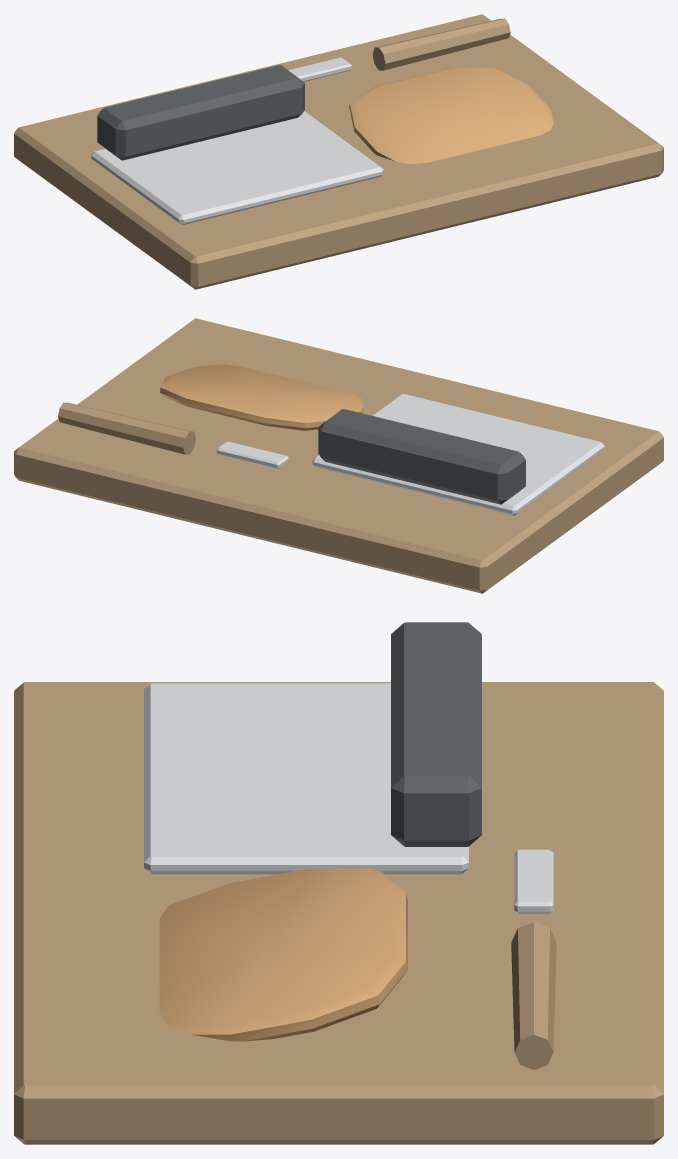
File: bakery-and-cafe-dough-scraper-set-985913fa__22201.glb
3 renders of one model, top to bottom at view 1: azimuth 30°, elevation 25°; view 2: azimuth 150°, elevation 25°; view 3: azimuth 270°, elevation 25°, orthographic. The views are drawn at different scales.
Visible parts, largest first — view 1: dough-scraper-set; view 2: dough-scraper-set; view 3: dough-scraper-set.
Boxes of the visible parts, left/top/right/bottom form: dough-scraper-set: left=14, top=14, right=663, bottom=289; dough-scraper-set: left=14, top=318, right=663, bottom=593; dough-scraper-set: left=14, top=622, right=663, bottom=1144.
Size of the model in its own units: 0.3 by 0.05 by 0.2.
